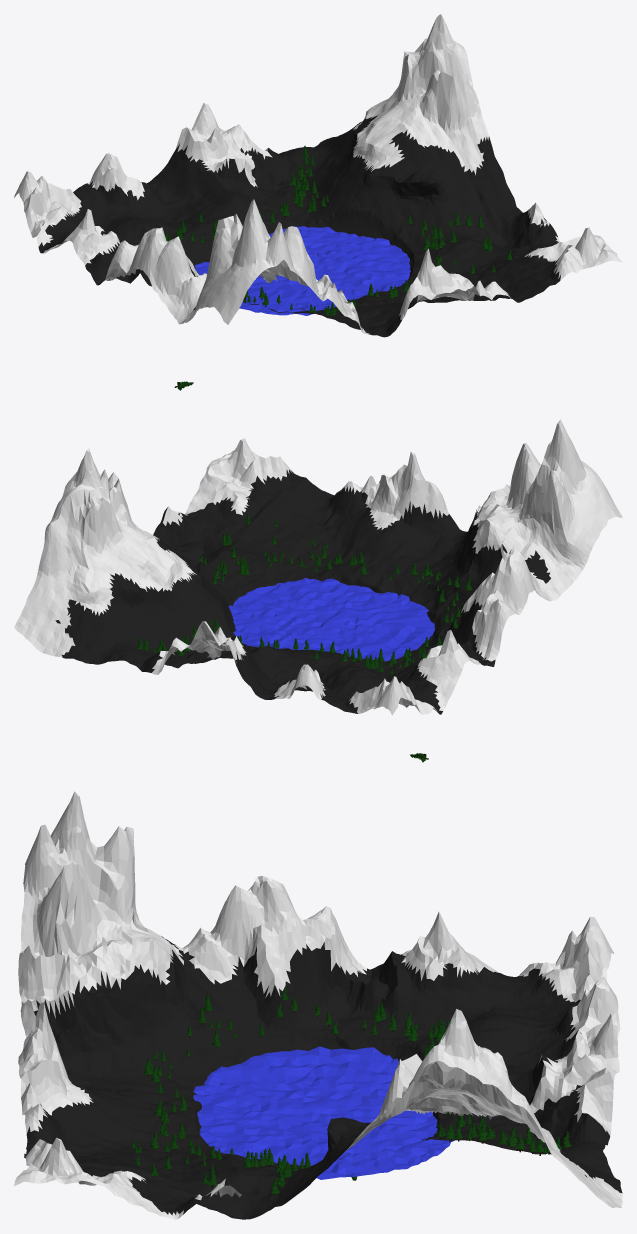
The model's file is Berge.fbx.
The picture shows the model from 3 angles, top to bottom: view 1: azimuth 30°, elevation 25°; view 2: azimuth 150°, elevation 25°; view 3: azimuth 270°, elevation 25°; orthographic projection. The views are drawn at different scales.
Visible parts, largest first — view 1: Plane; view 2: Plane; view 3: Plane.
Boxes of the visible parts, box(x1,y1,x2,y2) form: Plane: box(14, 14, 622, 337); Plane: box(14, 419, 622, 715); Plane: box(14, 791, 622, 1219).
Size of the model in its own units: 27083 by 18050 by 27297.
